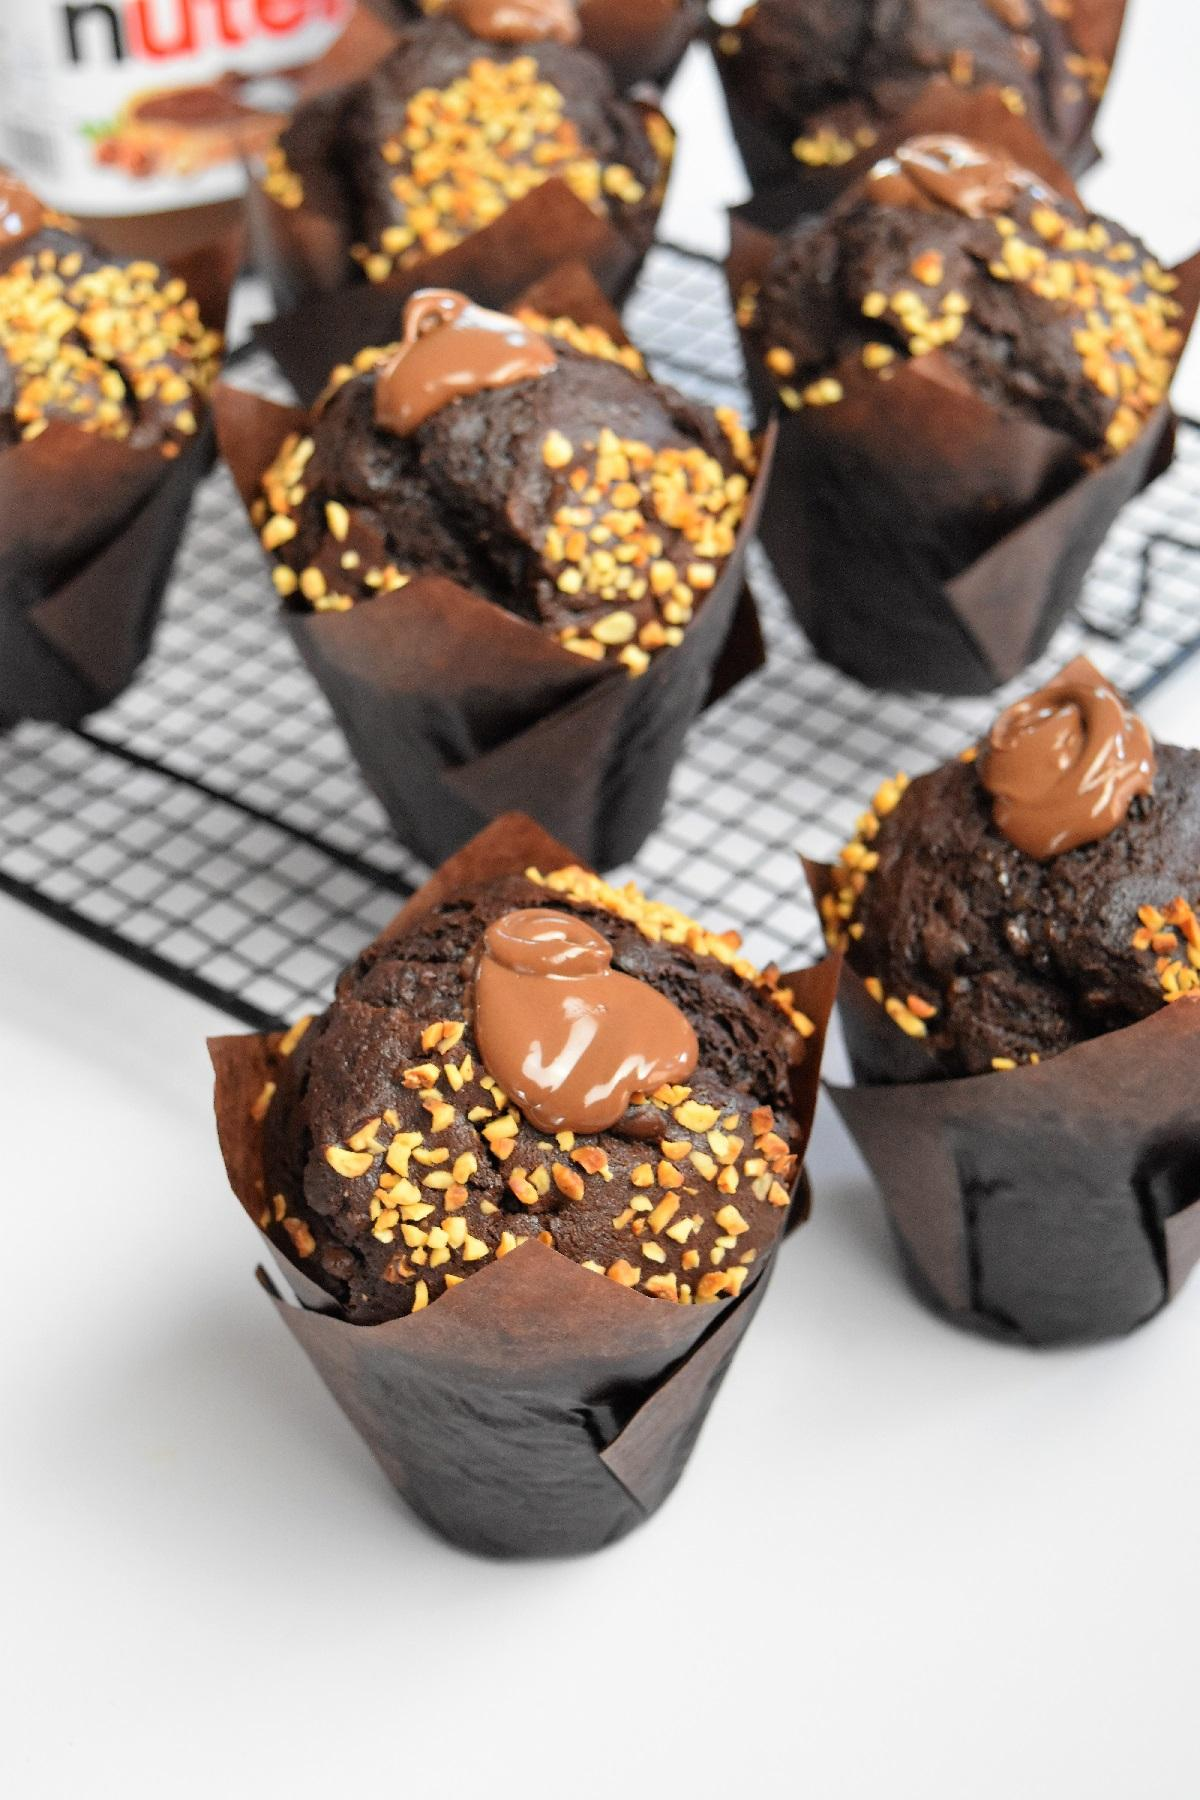muffin: (141, 850, 834, 1599), (226, 311, 771, 856), (858, 671, 1179, 1416), (742, 163, 1187, 654), (0, 183, 201, 711), (288, 11, 647, 280), (751, 0, 1074, 123)
